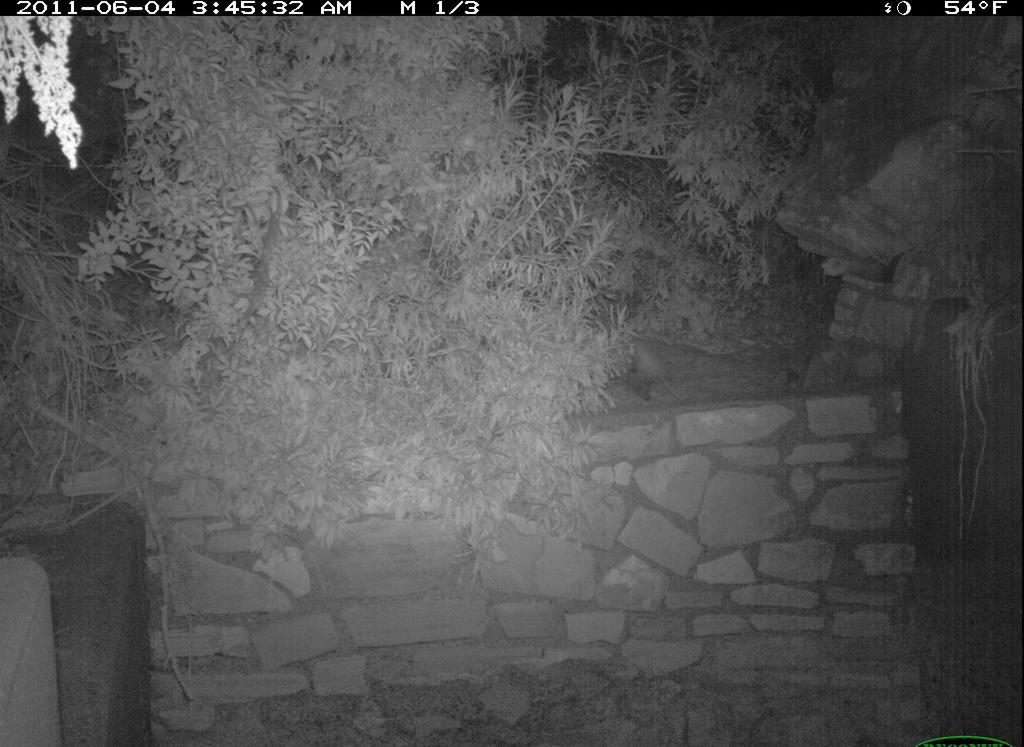opossum: (609, 331, 693, 413)
